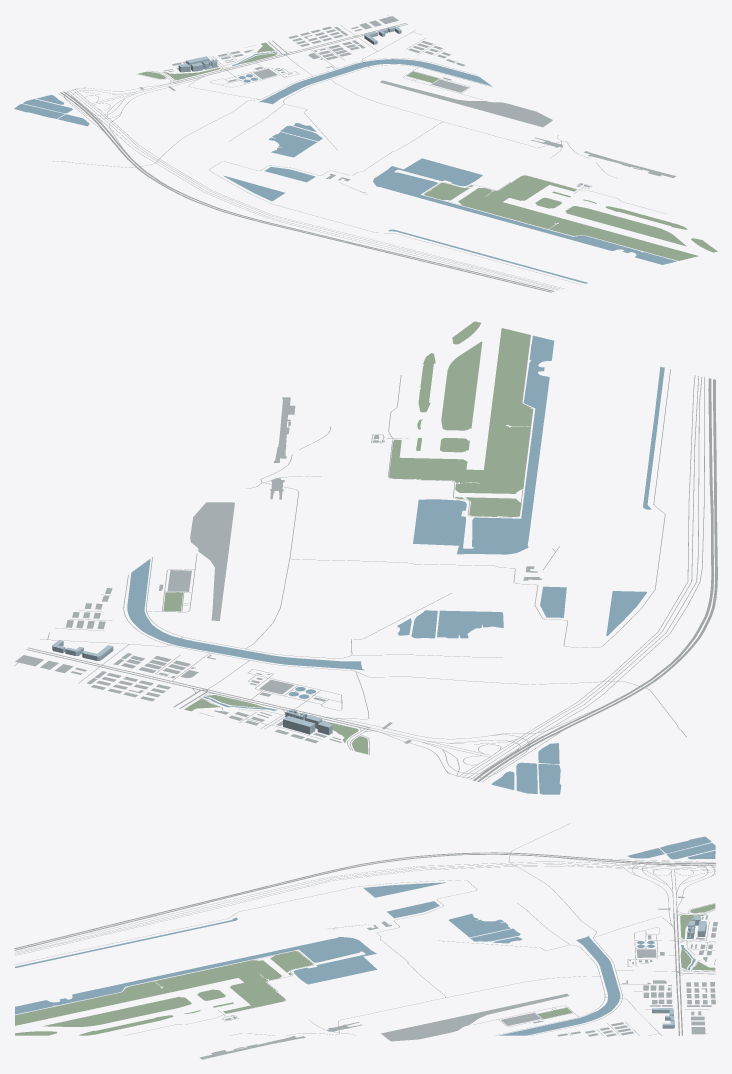
File: overview-known--7_3.glb
3 renders of one model, top to bottom at view 1: azimuth 30°, elevation 25°; view 2: azimuth 150°, elevation 25°; view 3: azimuth 270°, elevation 25°, orthographic. The views are drawn at different scales.
Size of the model in its own units: 3183 by 36.4 by 3999.
